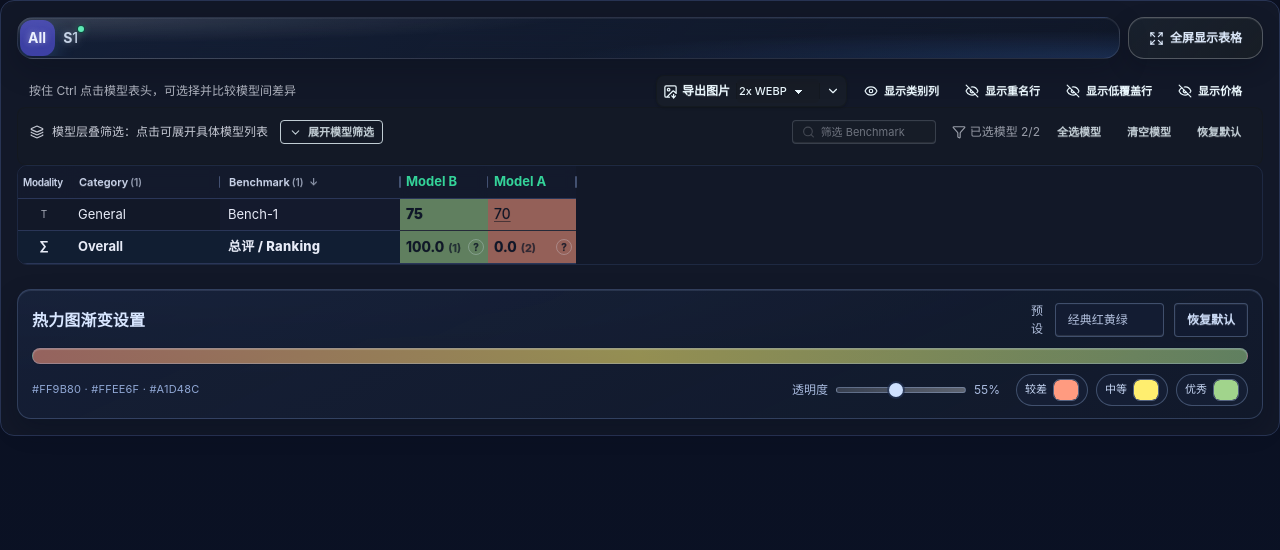
BenchmarkMatrix ranking panel › Ctrl/Cmd clicking a price row expands a lower-price ranking chart
This screenshot has width=1280, height=550.
Click the button "显示价格": (1210,91) [1169,79,1251,103]
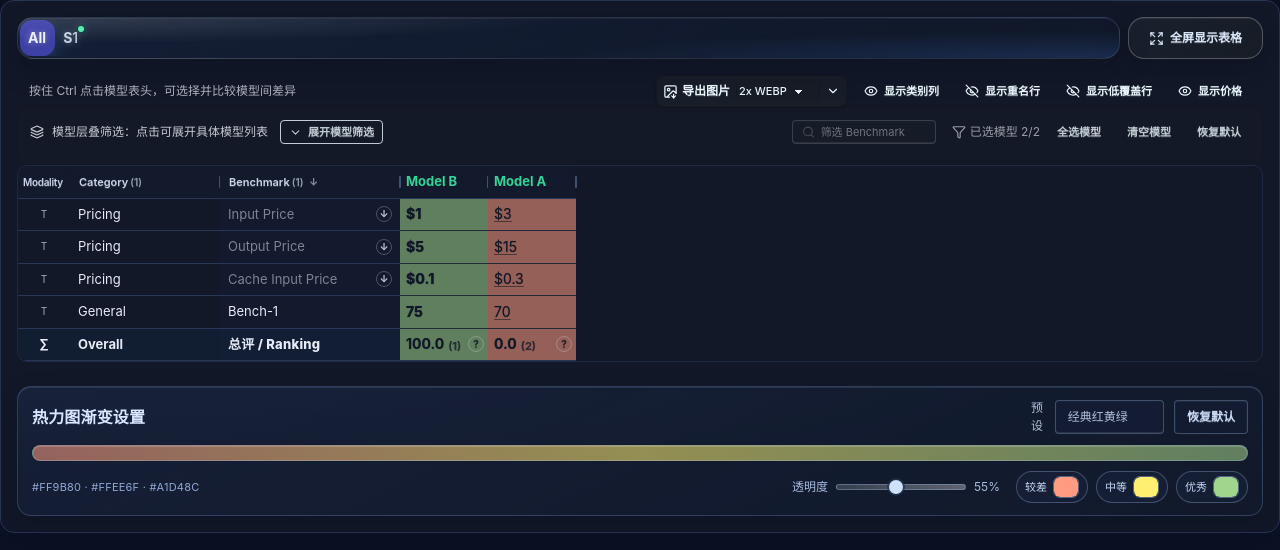
Expected: the text "Input Price" is shown, [228,206,294,222]
Click the text "Input Price": (297,214) [18,198,576,231]
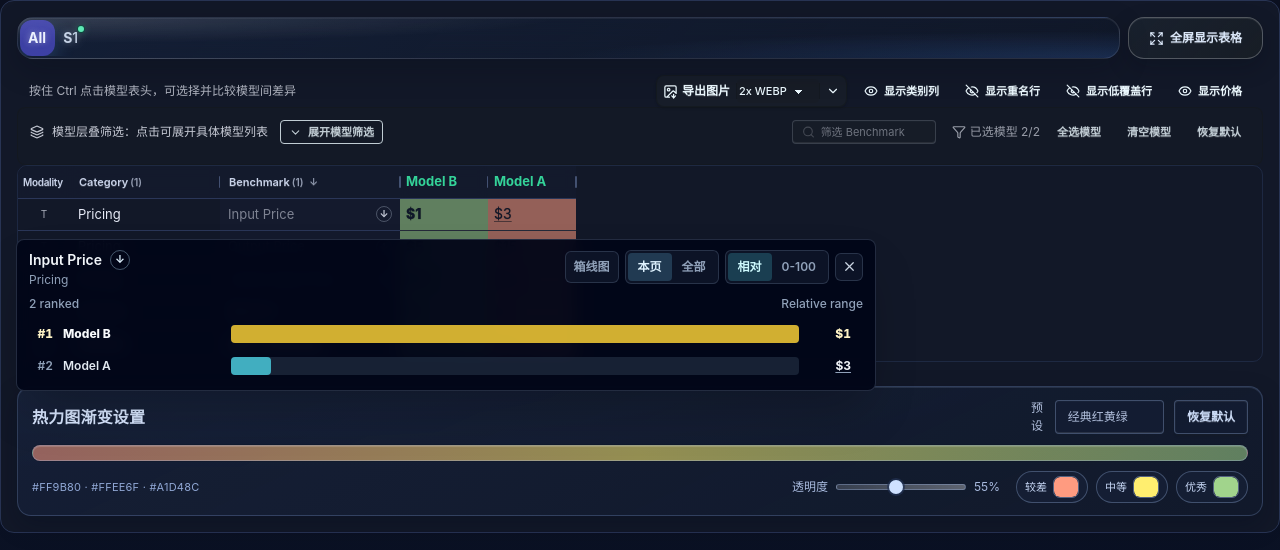
Click the button "全部": (694,267) [672,253,716,281]
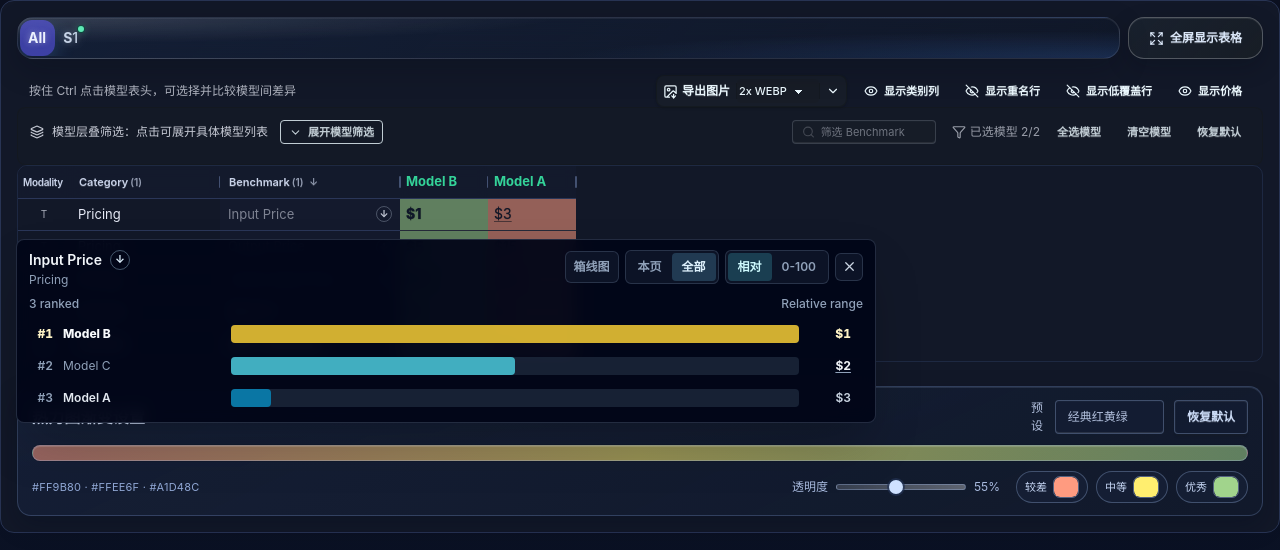
Expected: the text "Input Price" below "Modality" is shown, [228,206,294,222]
Expected: the element showing "#1 Model B $1" is shown, [29,320,859,348]
Expected: the element showing "#2 Model C $2" is shown, [29,352,859,380]
